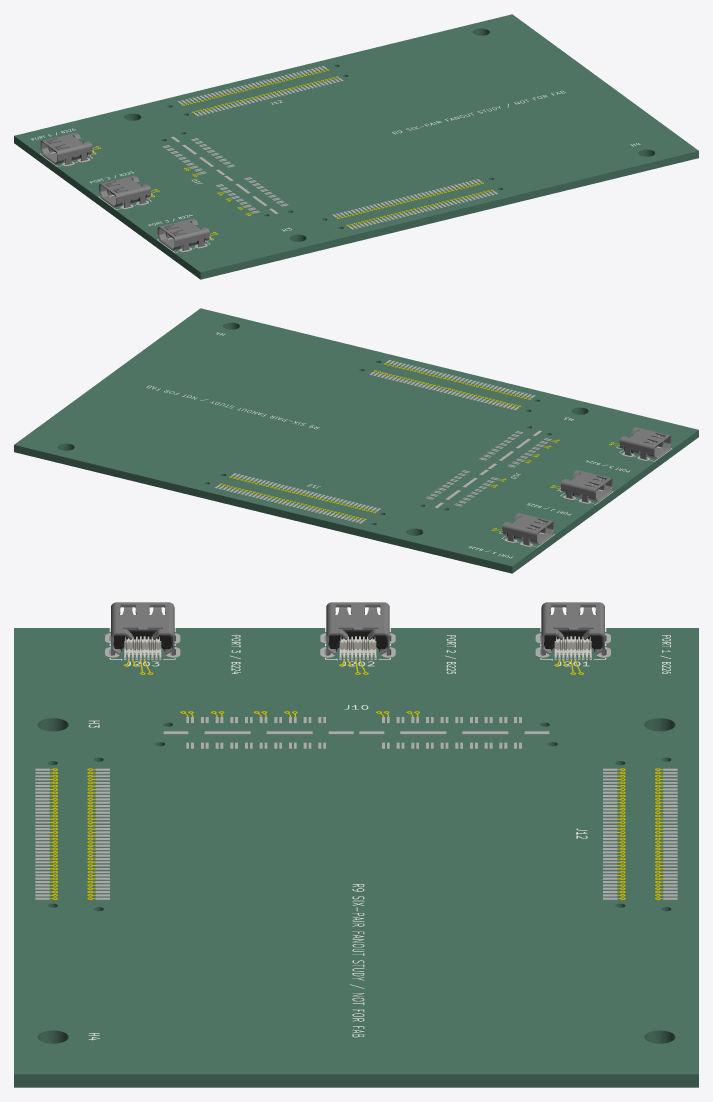
Rendered from r9-interposer-six-pair.glb.
The picture shows the model from 3 angles, top to bottom: view 1: azimuth 30°, elevation 25°; view 2: azimuth 150°, elevation 25°; view 3: azimuth 270°, elevation 25°; orthographic projection. The views are drawn at different scales.
Parts seen in each view (by area): view 1: =>[0:1:1:9], =>[0:1:1:3] (×3), =>[0:1:1:5], =>[0:1:1:4], =>[0:1:1:7]; view 2: =>[0:1:1:9], =>[0:1:1:3] (×3), =>[0:1:1:5], =>[0:1:1:4], =>[0:1:1:7]; view 3: =>[0:1:1:9], =>[0:1:1:5], =>[0:1:1:3] (×3), =>[0:1:1:4], =>[0:1:1:7].
Part boxes in pixels (<box>): =>[0:1:1:9]: <box>14,14,698,279</box>; =>[0:1:1:3] (×3): <box>40,132,209,250</box>; =>[0:1:1:5]: <box>50,66,497,252</box>; =>[0:1:1:4]: <box>90,69,493,240</box>; =>[0:1:1:7]: <box>31,90,640,252</box>; =>[0:1:1:9]: <box>14,308,698,573</box>; =>[0:1:1:3] (×3): <box>502,427,671,545</box>; =>[0:1:1:5]: <box>215,360,661,546</box>; =>[0:1:1:4]: <box>219,363,619,531</box>; =>[0:1:1:7]: <box>146,332,671,558</box>; =>[0:1:1:9]: <box>14,628,698,1087</box>; =>[0:1:1:5]: <box>35,633,677,899</box>; =>[0:1:1:3] (×3): <box>111,602,604,658</box>; =>[0:1:1:4]: <box>49,660,663,900</box>; =>[0:1:1:7]: <box>88,627,671,1040</box>.
Bounding box in the file's own units: 0.1079 × 0.00457 × 0.07.
